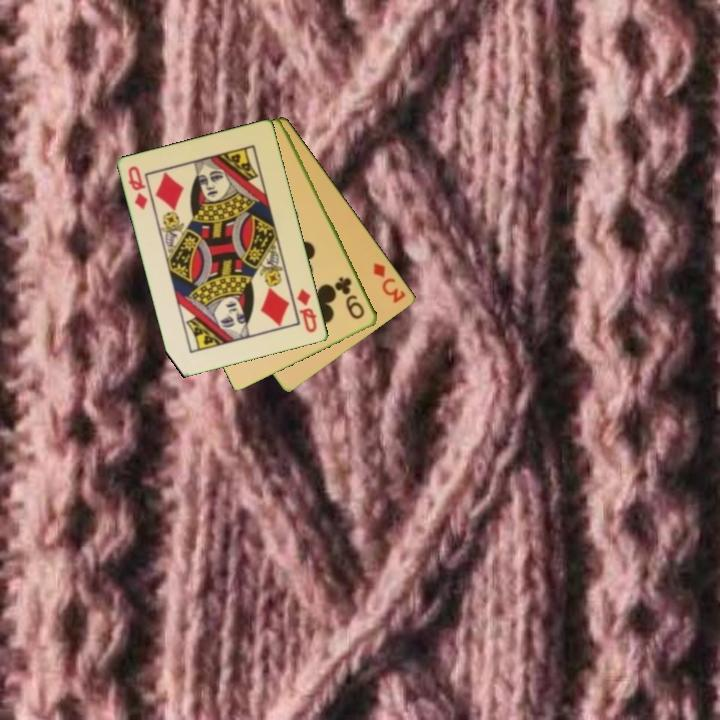3d: (370, 259, 409, 306)
9c: (333, 274, 368, 322)
Qd: (294, 285, 320, 336), (125, 163, 151, 212)
